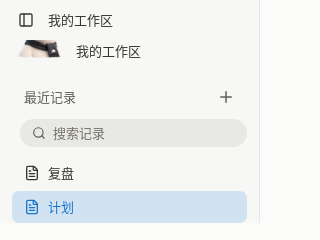
workspace notes show only searchable recent records
Expected: the picture with alt text "NoriMind" is shown, [76, 10, 216, 39]
Type "总结" into the field named "搜索最近记录" at {"x": 144, "y": 133}, box [53, 123, 235, 143]
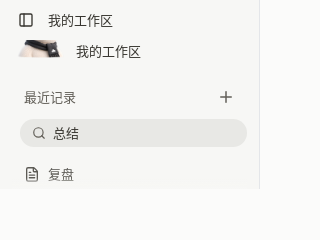
Expected: the button "复盘" is shown, [12, 158, 247, 189]
Now the button "计划" is gone
